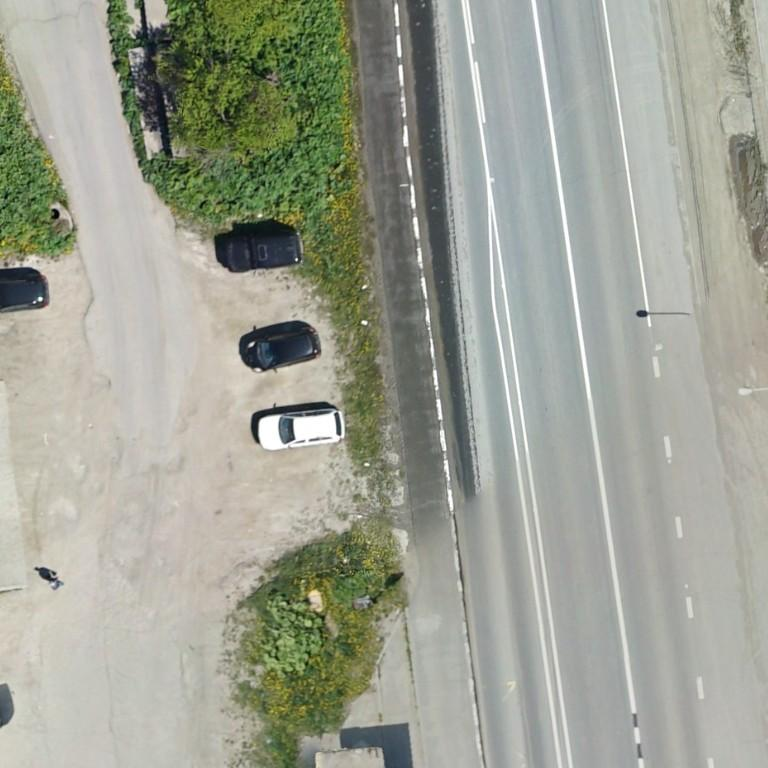hogweed: (231, 0, 345, 226), (0, 94, 64, 250)
